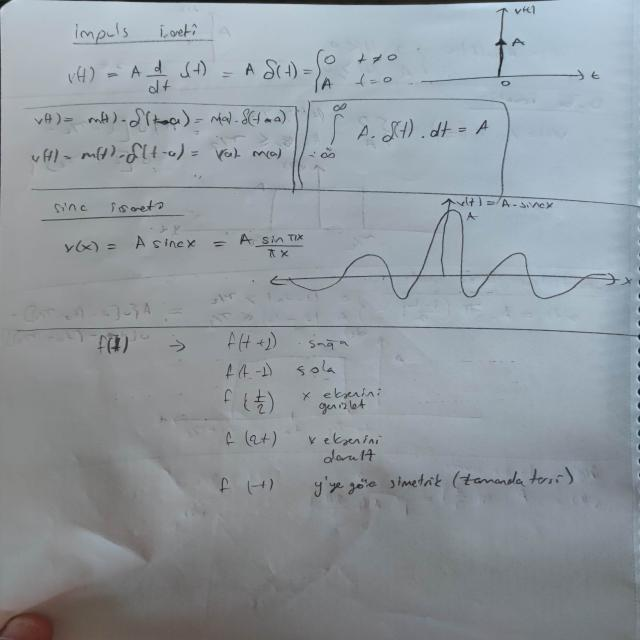image: (256, 193, 640, 314), (415, 2, 617, 97)
math: (52, 47, 411, 96), (318, 100, 495, 161), (27, 141, 284, 181), (57, 227, 316, 264), (21, 107, 288, 140)
text: (296, 460, 576, 501), (73, 15, 214, 43), (291, 430, 387, 465), (293, 380, 388, 414), (304, 329, 352, 353), (292, 358, 341, 379)
